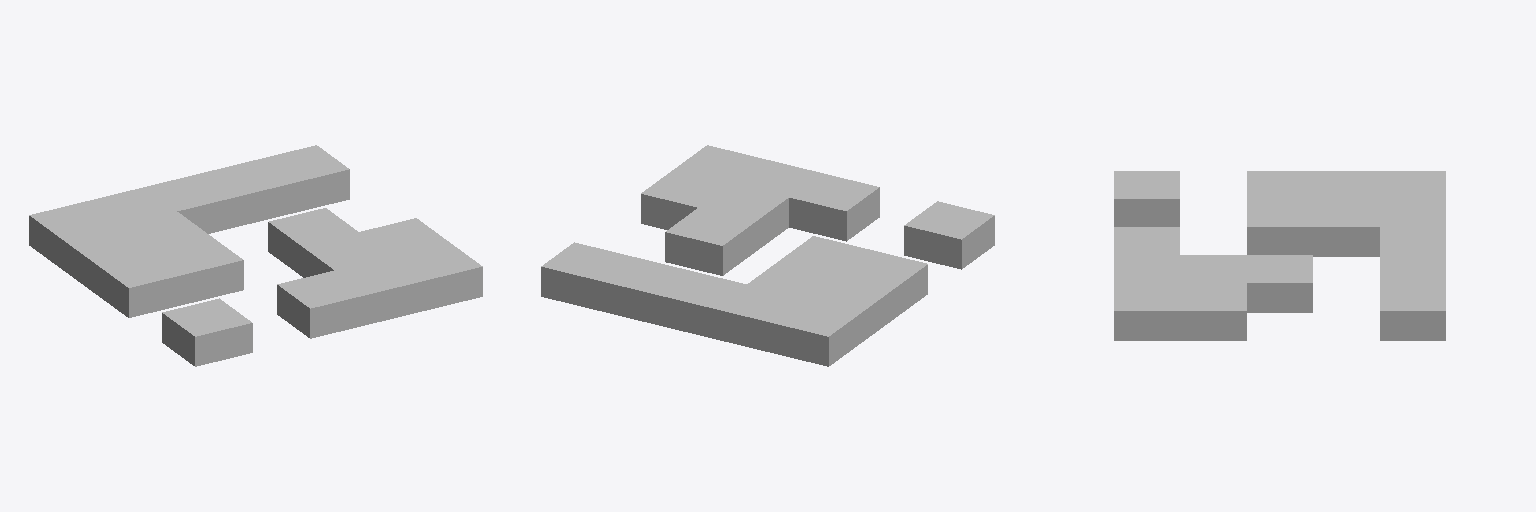
The model's file is 1f_block.obj.
The picture shows the model from 3 angles: view 1: azimuth 30°, elevation 25°; view 2: azimuth 150°, elevation 25°; view 3: azimuth 270°, elevation 25°; orthographic projection.
Parts seen in each view (by area): view 1: foil.block.2.0_block.2576, foil.block.0.0_block.2568, foil.block.0.2_block.2570, foil.block.4.0_block.2582, foil.block.1.2_block.2573, foil.block.4.4_block.2584, foil.block.3.0_block.2578, foil.block.3.4_block.2581, foil.block.2.4_block.2577, foil.block.0.3_block.2571, foil.block.0.4_block.2572, foil.block.3.2_block.2580 (+4 smaller); view 2: foil.block.2.0_block.2576, foil.block.0.0_block.2568, foil.block.3.2_block.2580, foil.block.0.4_block.2572, foil.block.4.4_block.2584, foil.block.2.4_block.2577, foil.block.1.4_block.2575, foil.block.3.4_block.2581, foil.block.4.1_block.2583, foil.block.0.2_block.2570, foil.block.3.1_block.2579, foil.block.0.3_block.2571 (+4 smaller); view 3: foil.block.1.3_block.2574, foil.block.4.1_block.2583, foil.block.3.2_block.2580, foil.block.4.0_block.2582, foil.block.4.4_block.2584, foil.block.0.0_block.2568, foil.block.1.2_block.2573, foil.block.0.3_block.2571, foil.block.3.1_block.2579, foil.block.0.2_block.2570, foil.block.0.4_block.2572, foil.block.1.4_block.2575 (+4 smaller).
Boxes of the visible parts, box(x1,y1,x2,y2) form: foil.block.2.0_block.2576: box(277, 270, 367, 338); foil.block.0.0_block.2568: box(162, 298, 252, 366); foil.block.0.2_block.2570: box(96, 250, 185, 317); foil.block.4.0_block.2582: box(392, 242, 482, 310); foil.block.1.2_block.2573: box(154, 236, 243, 303); foil.block.4.4_block.2584: box(260, 145, 349, 213); foil.block.3.0_block.2578: box(335, 257, 424, 324); foil.block.3.4_block.2581: box(202, 159, 291, 226); foil.block.2.4_block.2577: box(145, 173, 234, 233); foil.block.0.3_block.2571: box(62, 226, 152, 293); foil.block.0.4_block.2572: box(29, 201, 119, 268); foil.block.3.2_block.2580: box(268, 208, 357, 275); foil.block.2.0_block.2576: box(789, 173, 879, 241); foil.block.0.0_block.2568: box(904, 201, 994, 269); foil.block.3.2_block.2580: box(665, 208, 755, 275); foil.block.0.4_block.2572: box(771, 298, 861, 366); foil.block.4.4_block.2584: box(541, 242, 631, 310); foil.block.2.4_block.2577: box(656, 270, 746, 338); foil.block.1.4_block.2575: box(714, 285, 803, 352); foil.block.3.4_block.2581: box(599, 257, 688, 324); foil.block.4.1_block.2583: box(641, 169, 730, 229); foil.block.0.2_block.2570: box(839, 250, 927, 317); foil.block.3.1_block.2579: box(699, 183, 788, 250); foil.block.0.3_block.2571: box(805, 274, 894, 341); foil.block.1.3_block.2574: box(1313, 199, 1379, 256); foil.block.4.1_block.2583: box(1180, 283, 1246, 340); foil.block.3.2_block.2580: box(1247, 255, 1312, 312); foil.block.4.0_block.2582: box(1114, 283, 1179, 340); foil.block.4.4_block.2584: box(1380, 283, 1445, 340); foil.block.0.0_block.2568: box(1114, 171, 1179, 226); foil.block.1.2_block.2573: box(1247, 199, 1312, 254); foil.block.0.3_block.2571: box(1313, 171, 1379, 198); foil.block.3.1_block.2579: box(1180, 255, 1246, 282); foil.block.0.2_block.2570: box(1247, 171, 1312, 198); foil.block.0.4_block.2572: box(1380, 171, 1445, 198); foil.block.1.4_block.2575: box(1380, 199, 1445, 226).
Size of the model in its own units: 10 by 1 by 10.